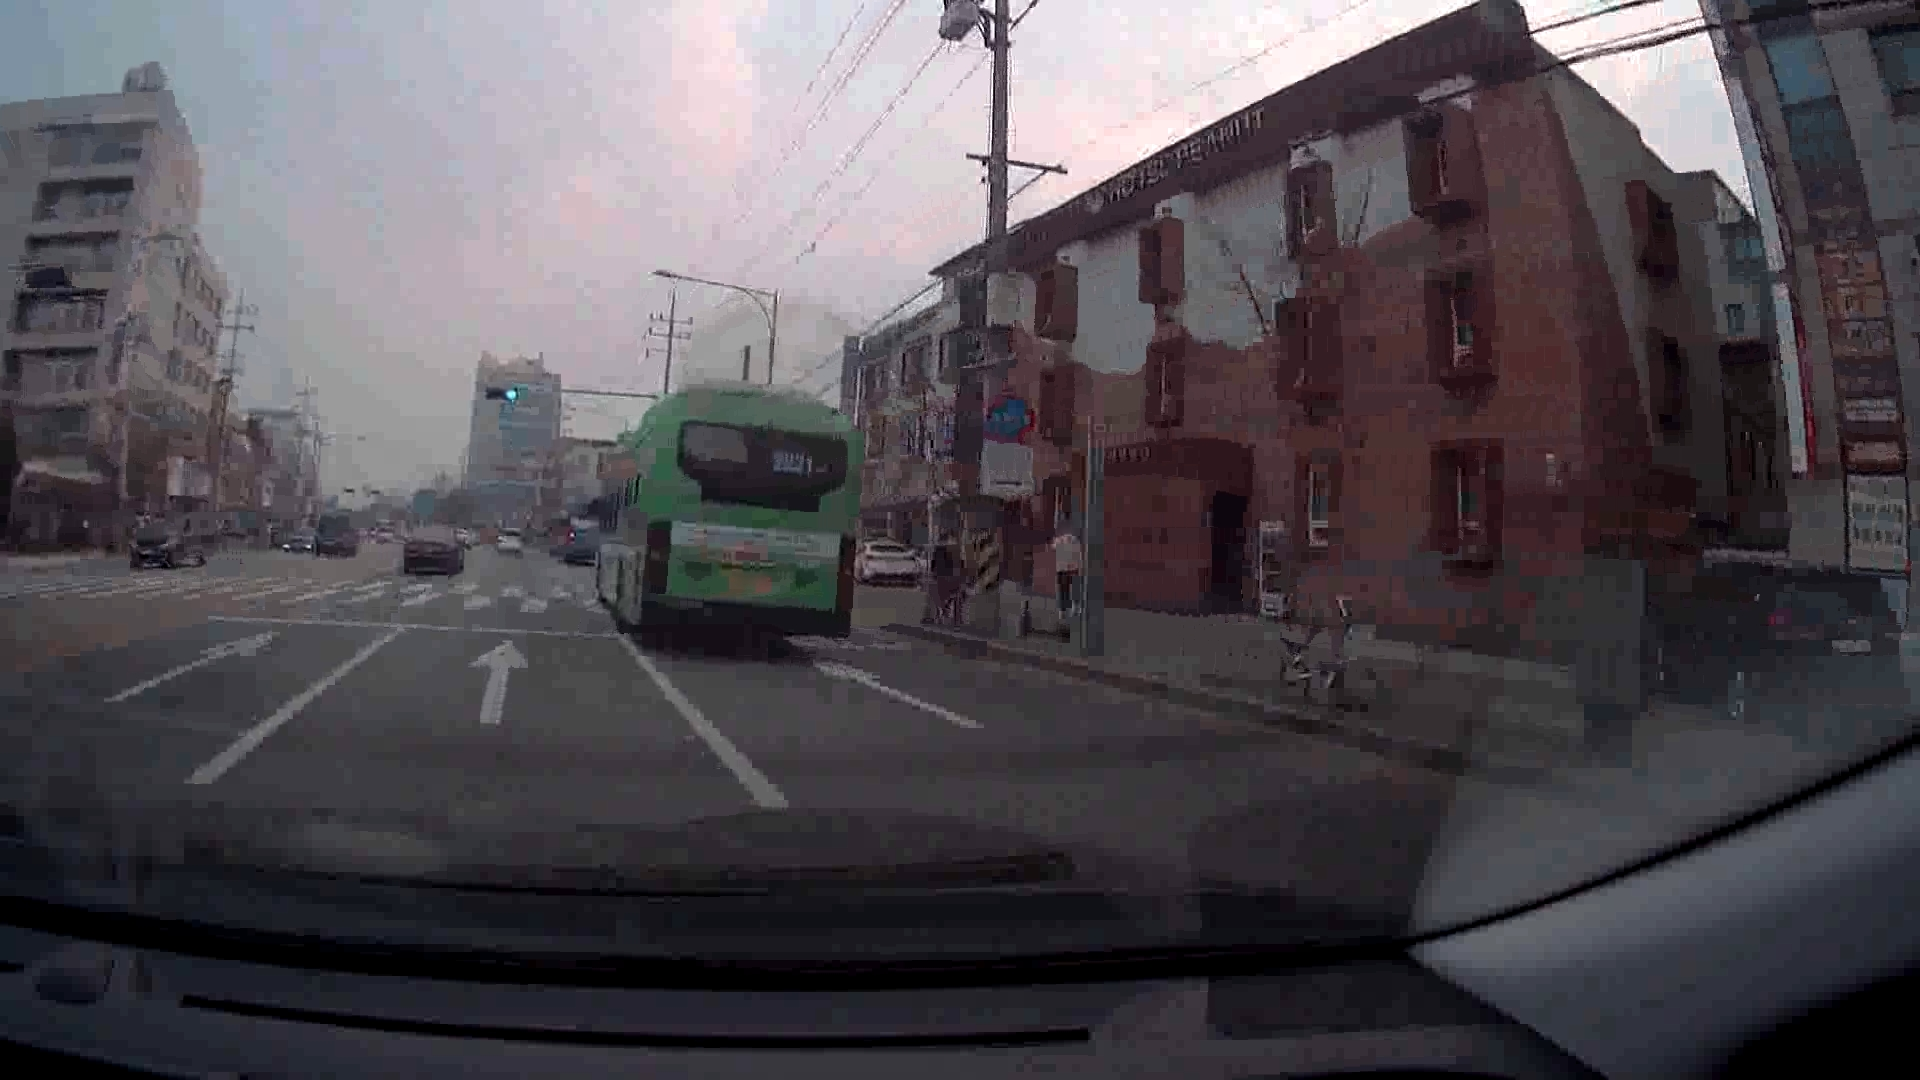trafficLight: (483, 386, 521, 404)
trafficSignCircle: (981, 394, 1035, 444)
